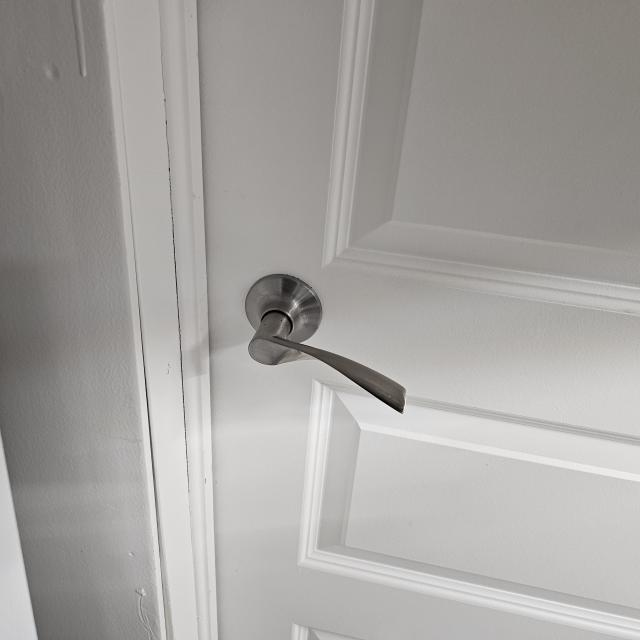door-handle: (245, 274, 406, 412)
